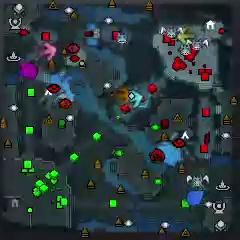p1: (187, 189, 205, 206)
p3: (19, 61, 39, 79)
x1: (39, 43, 57, 60)
x2: (177, 28, 195, 44)
x3: (128, 90, 142, 108)
x5: (115, 87, 130, 105)
